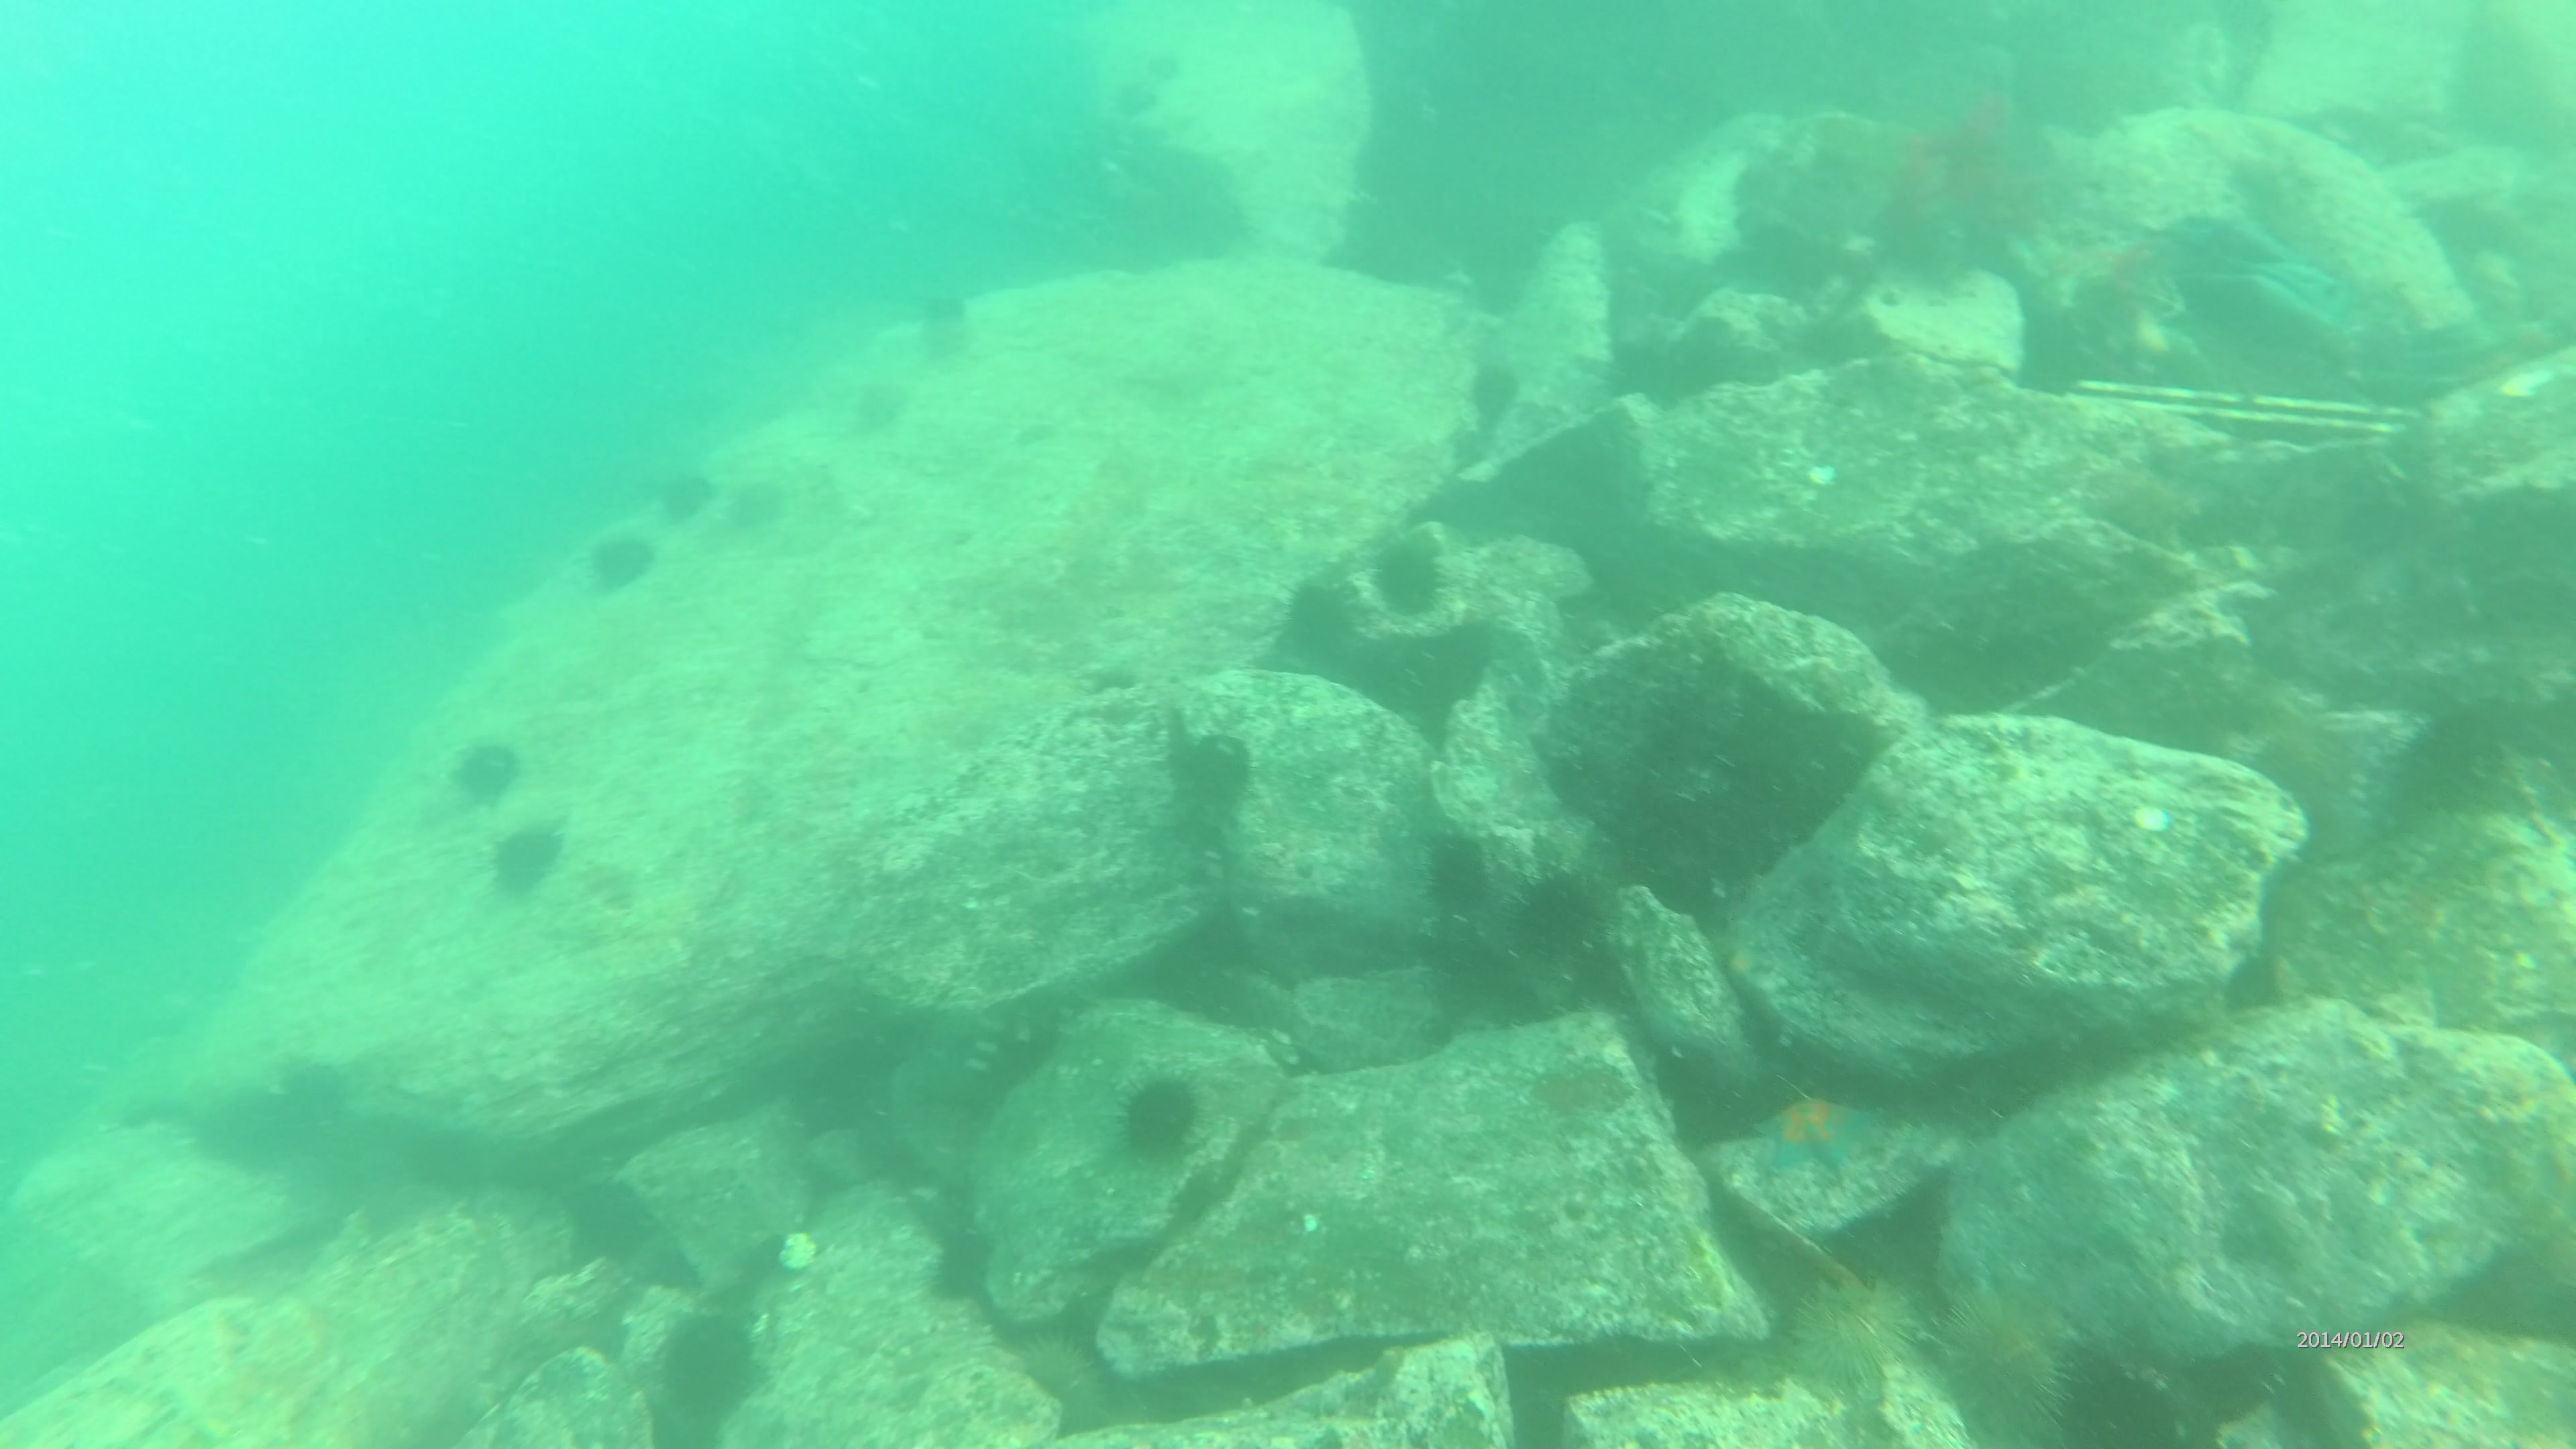echinus: (1930, 1299, 2082, 1440), (1790, 1267, 1923, 1399), (648, 1307, 770, 1426), (1016, 1323, 1111, 1438), (1514, 856, 1605, 973), (1127, 1058, 1208, 1169), (1276, 577, 1366, 667), (1369, 533, 1451, 619), (1178, 731, 1254, 817), (487, 824, 563, 911), (724, 469, 787, 547), (586, 529, 658, 594), (453, 741, 525, 807), (660, 460, 724, 531), (855, 368, 916, 435), (1465, 357, 1523, 425), (911, 285, 971, 343)
starfish: (1760, 1097, 1865, 1180)
